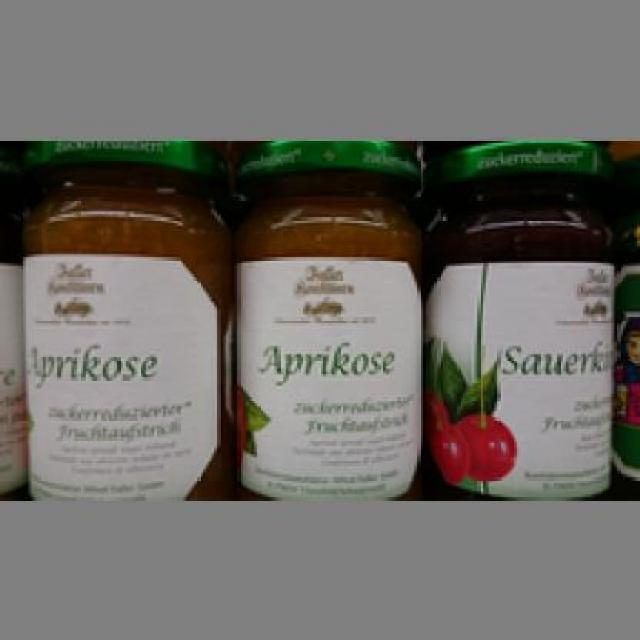Jam: (20, 137, 229, 500), (422, 140, 618, 494), (228, 137, 422, 494)
